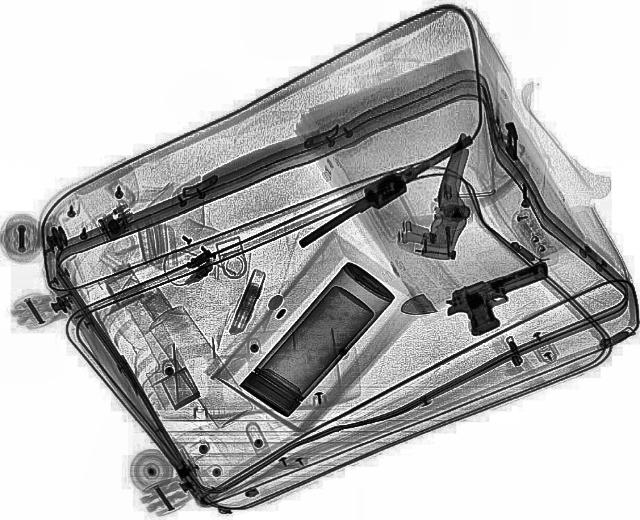Gun: (433, 260, 569, 340)
